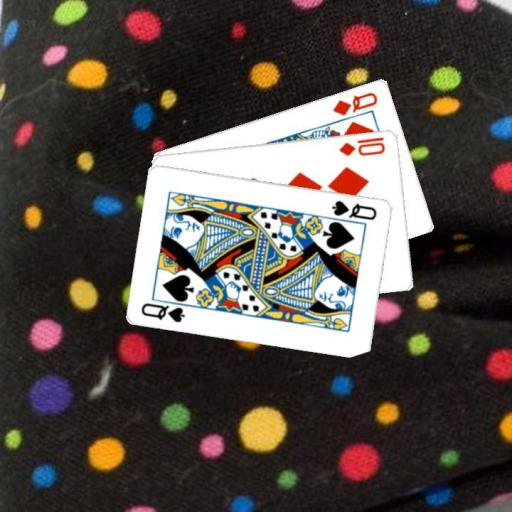10D: (336, 133, 387, 157)
QD: (329, 88, 379, 117)
QS: (138, 300, 187, 325), (329, 197, 379, 221)
